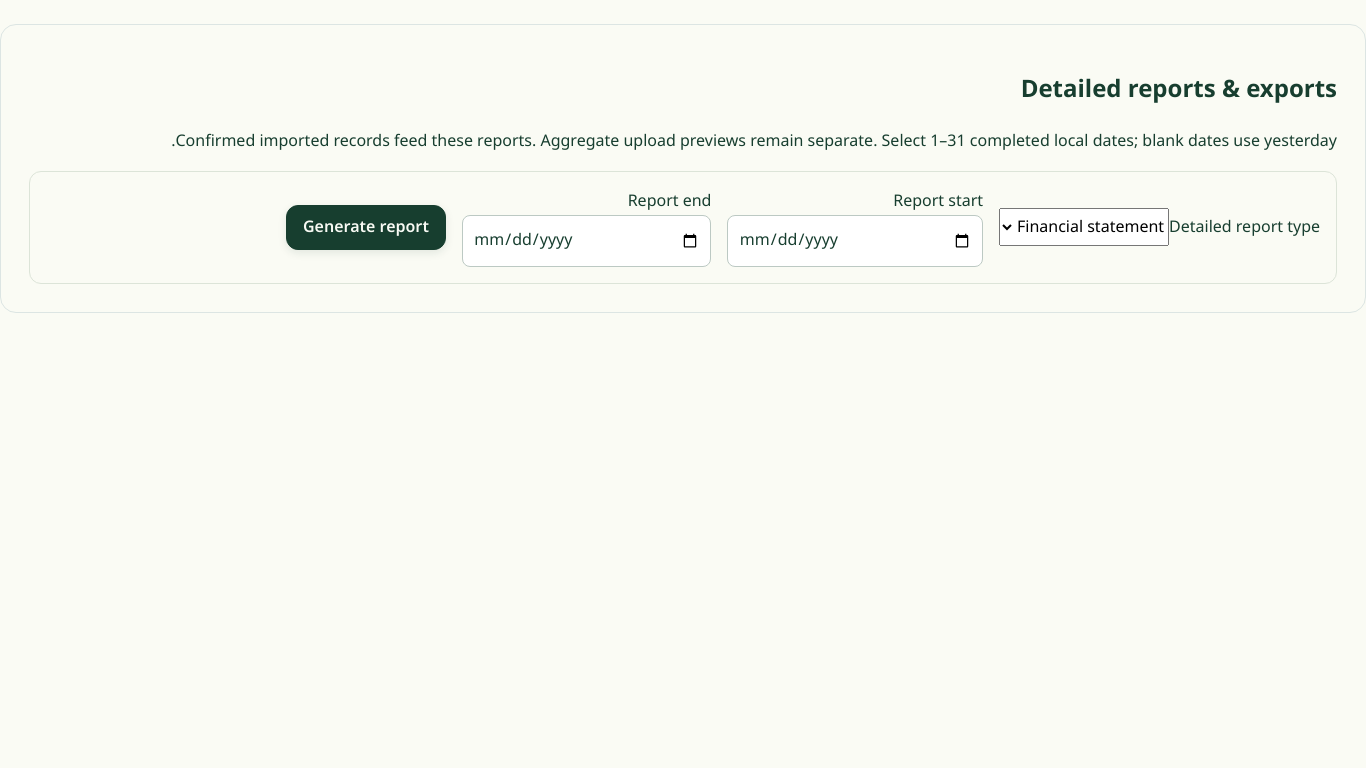
viewer controls withhold ledger exports and show missing comparisons explicitly
The width and height of the screenshot is (1366, 768).
What coordinates should you click on to do the following:
click the button "Generate report"
I would click on:
 (366, 227)
Its box is top-left (286, 205), bottom-right (446, 250).
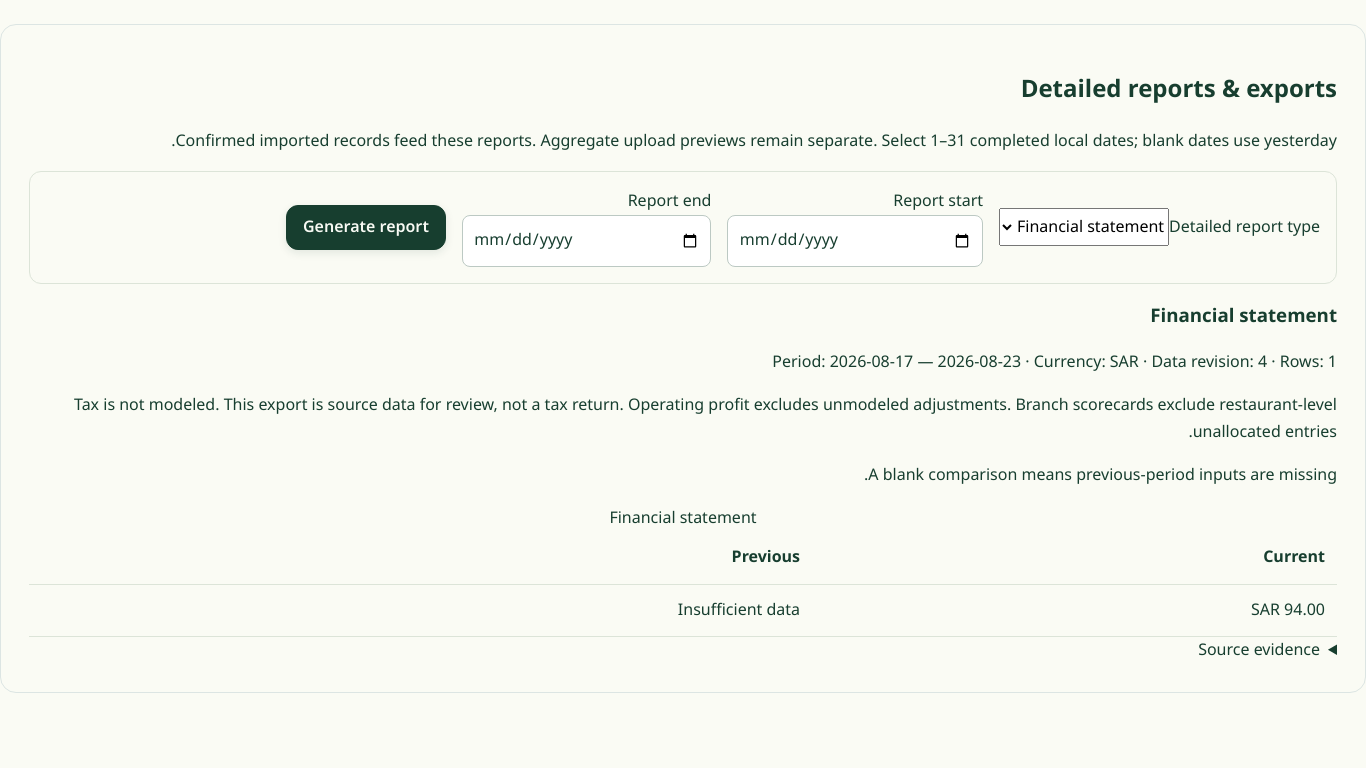
Expected: the text "Insufficient data" is shown, top-left (678, 593), bottom-right (800, 627)
